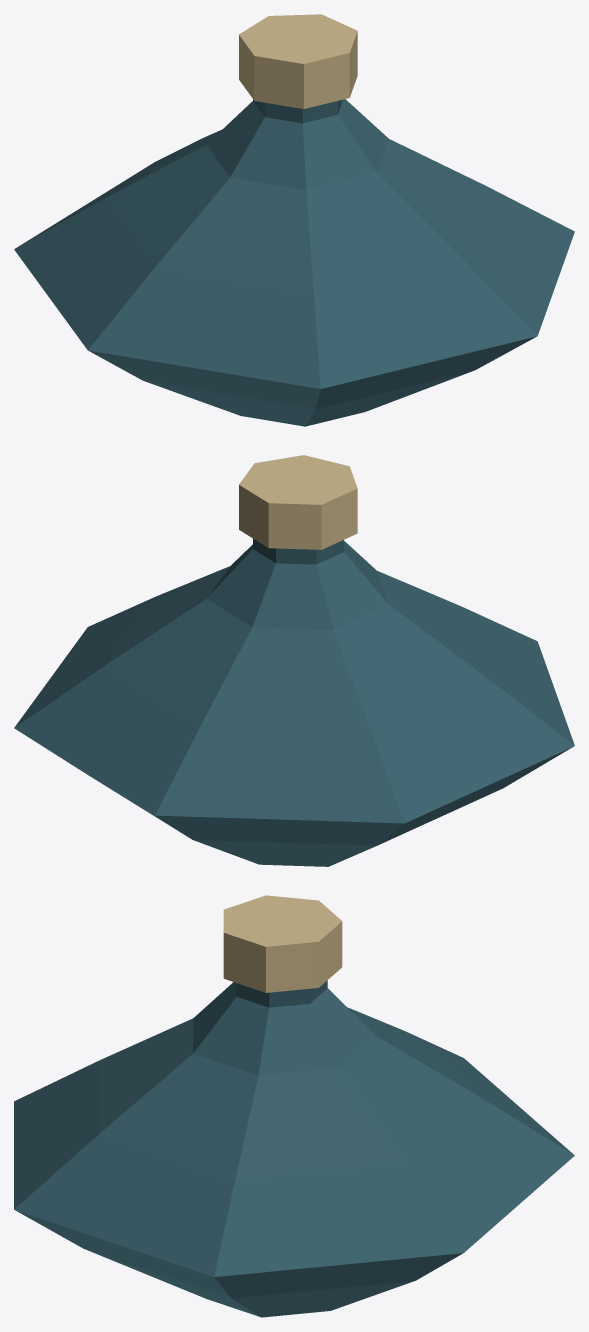
Rendered from ShortPotion_2.fbx.
3 views of the same model, one above another, from view 1: azimuth 30°, elevation 25°; view 2: azimuth 150°, elevation 25°; view 3: azimuth 270°, elevation 25° (orthographic). The views are drawn at different scales.
Visible parts, largest first — view 1: ShortPotion_2; view 2: ShortPotion_2; view 3: ShortPotion_2.
Boxes of the visible parts, x1,y1,x2,y2 form: ShortPotion_2: [14, 14, 574, 426]; ShortPotion_2: [14, 455, 574, 866]; ShortPotion_2: [14, 895, 574, 1317].
Size of the model in its own units: 18.37 by 12.78 by 17.91.
